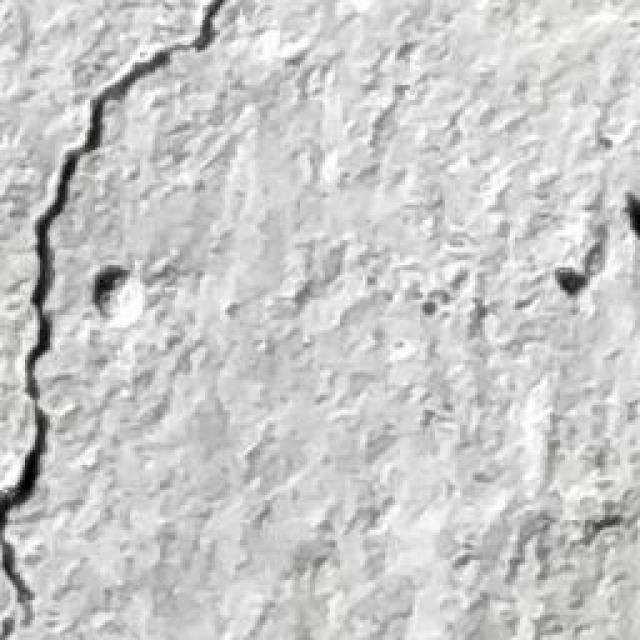Longitudinal: (0, 0, 255, 640)
